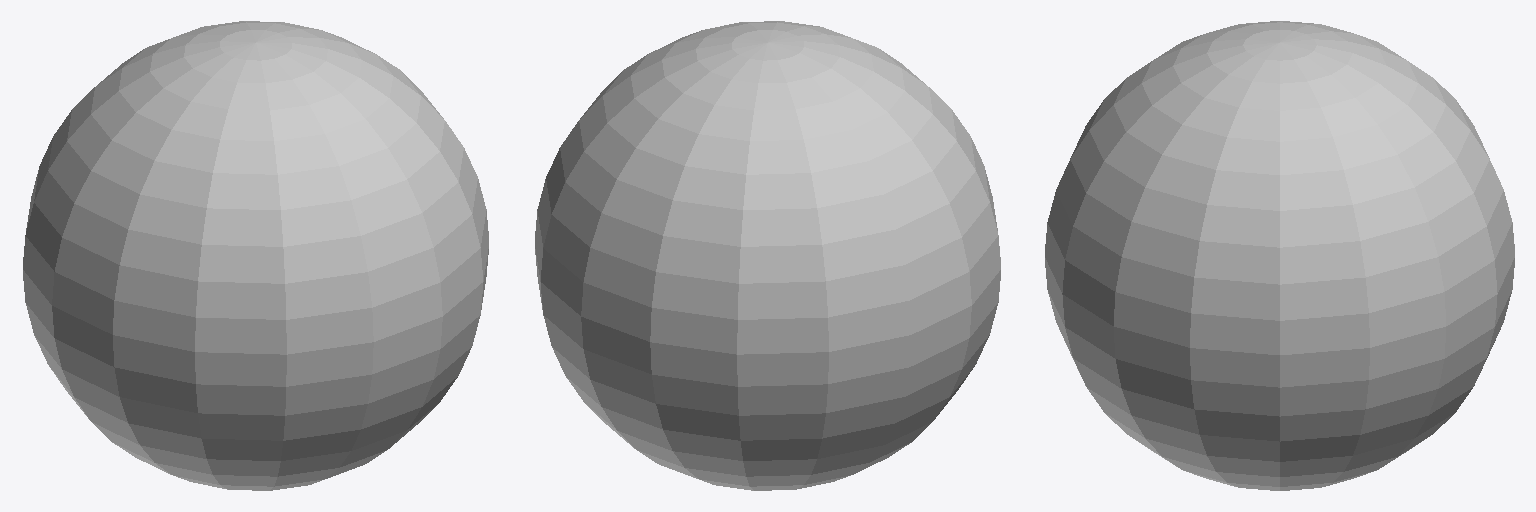
The model's file is pointlight.obj.
3 views of the same model, side by side, from view 1: azimuth 30°, elevation 25°; view 2: azimuth 150°, elevation 25°; view 3: azimuth 270°, elevation 25° (orthographic).
Visible parts, largest first — view 1: Sphere; view 2: Sphere; view 3: Sphere.
Boxes of the visible parts, x1,y1,x2,y2 form: Sphere: [23, 21, 488, 490]; Sphere: [535, 21, 1000, 490]; Sphere: [1045, 21, 1514, 490].
Size of the model in its own units: 2 by 2 by 2.